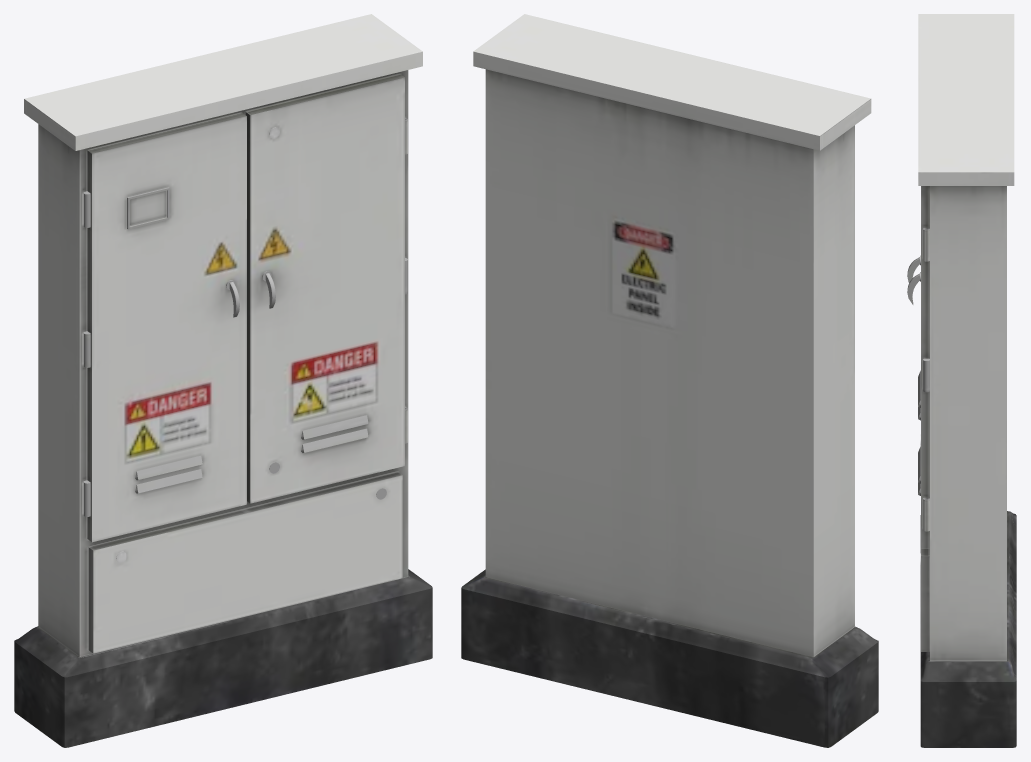
File: electricbox003_-_street_kitbash_collection.glb
The picture shows the model from 3 angles, left to right: view 1: azimuth 30°, elevation 25°; view 2: azimuth 150°, elevation 25°; view 3: azimuth 270°, elevation 25°; orthographic projection. The views are drawn at different scales.
Parts seen in each view (by area): view 1: Electricbox003_Material #16_0; view 2: Electricbox003_Material #16_0; view 3: Electricbox003_Material #16_0.
Part boxes in pixels (bbox=[...]): Electricbox003_Material #16_0: bbox=[14, 14, 432, 747]; Electricbox003_Material #16_0: bbox=[461, 14, 878, 747]; Electricbox003_Material #16_0: bbox=[907, 14, 1016, 747].
Bounding box in the file's own units: 0.9527 × 1.5 × 0.2607.
Materials: 1 (1 with a texture image).
